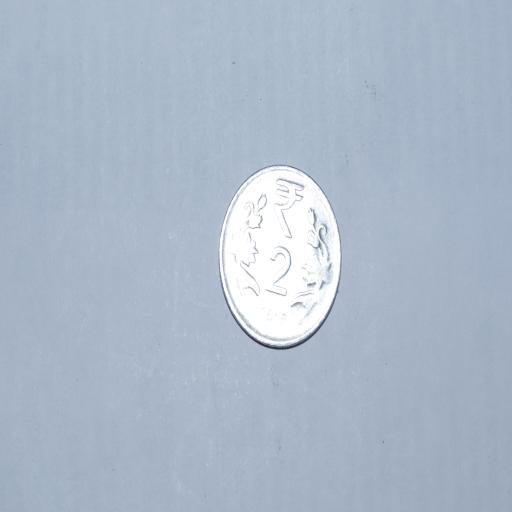rupee2: (216, 164, 342, 349)
